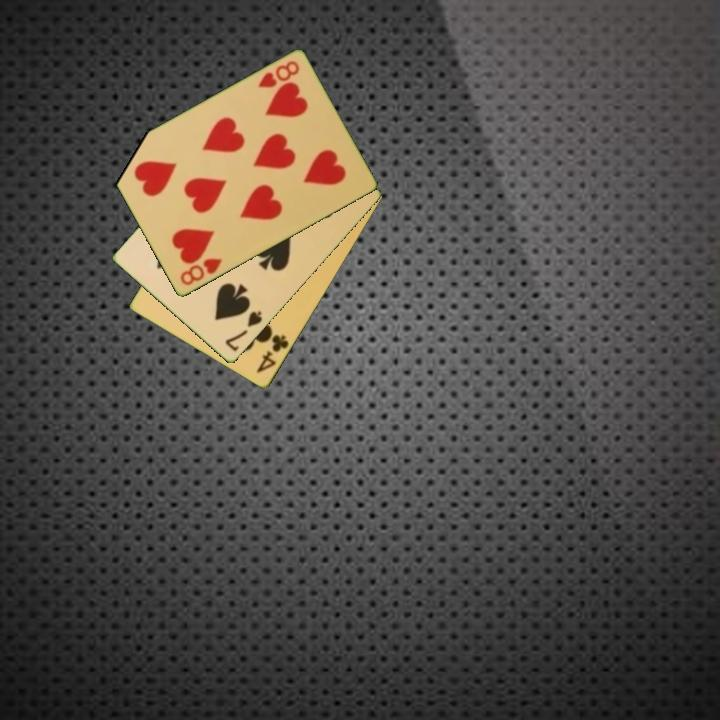4c: (253, 331, 292, 376)
7s: (222, 307, 265, 355)
8h: (176, 255, 225, 289), (254, 57, 302, 91)
